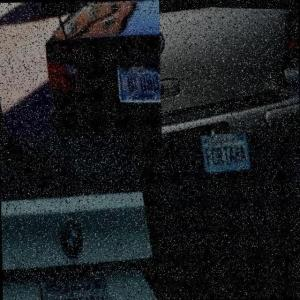Plate: (36, 255, 121, 300), (114, 52, 161, 104), (199, 133, 254, 175), (49, 2, 76, 13)
